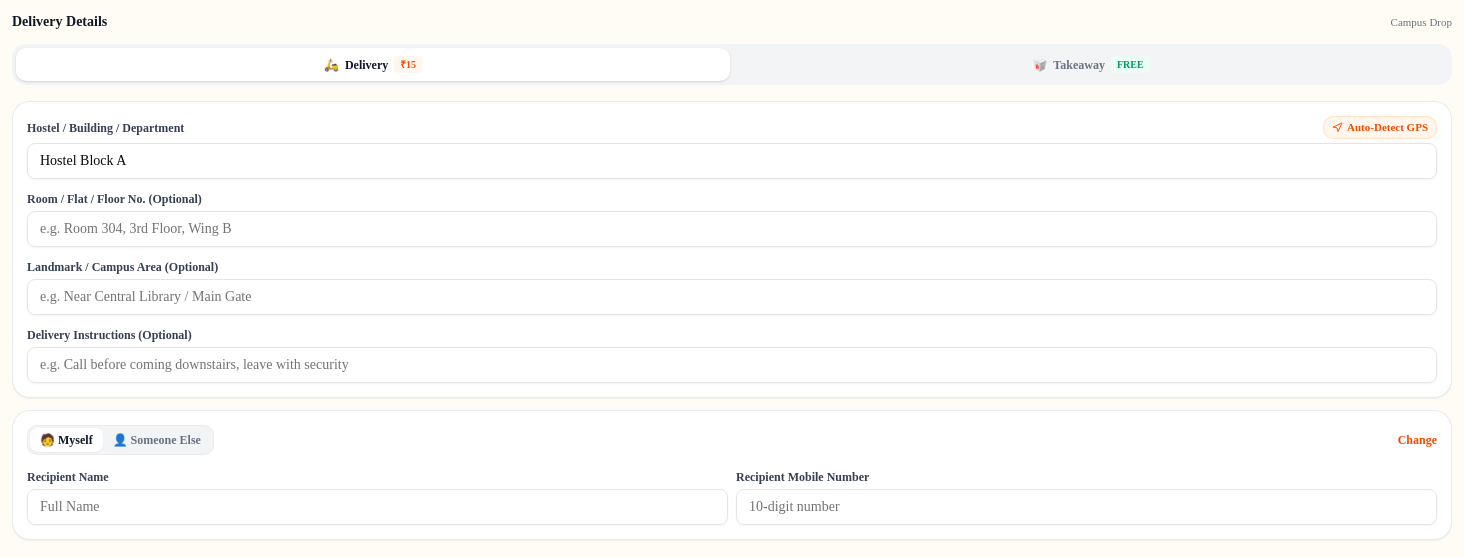
Test case: AddressForm Component › allows switching to Takeaway mode with zero delivery fee counter pickup card
The width and height of the screenshot is (1464, 558).
Click the button "🥡 Takeaway FREE" at (1091,65), box [734, 48, 1448, 81]
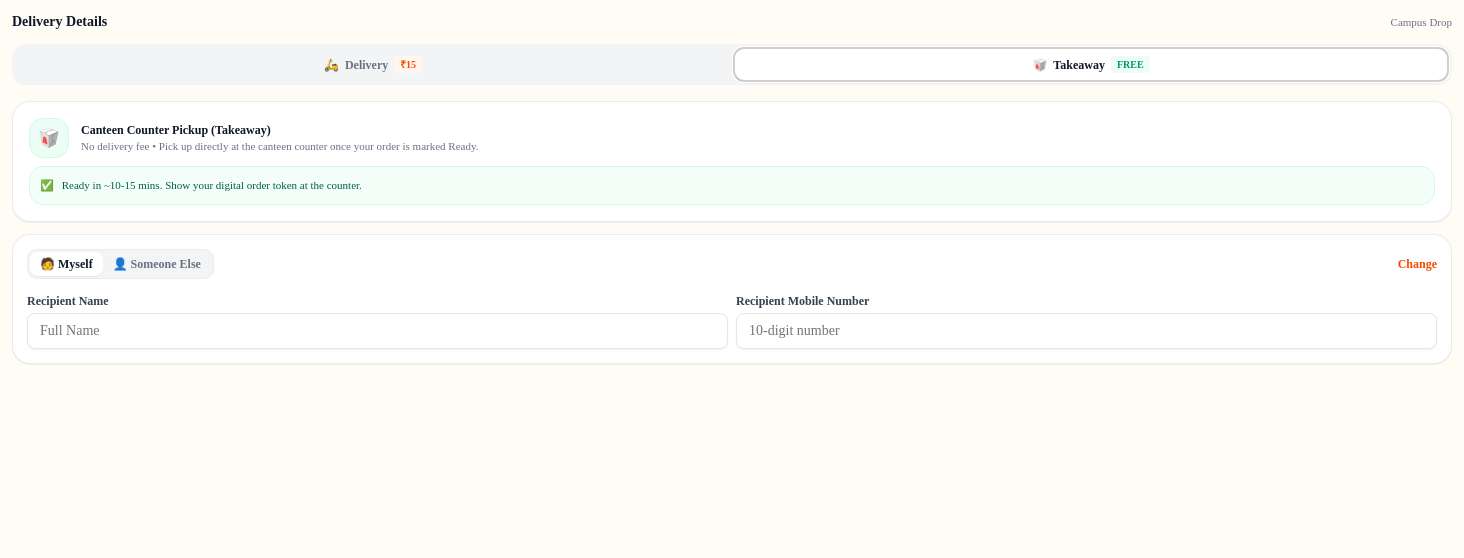
Check: the heading "Canteen Counter Pickup (Takeaway)" is shown, box [81, 123, 271, 137]
Check: the text "No delivery fee" is shown, box [81, 140, 478, 152]
